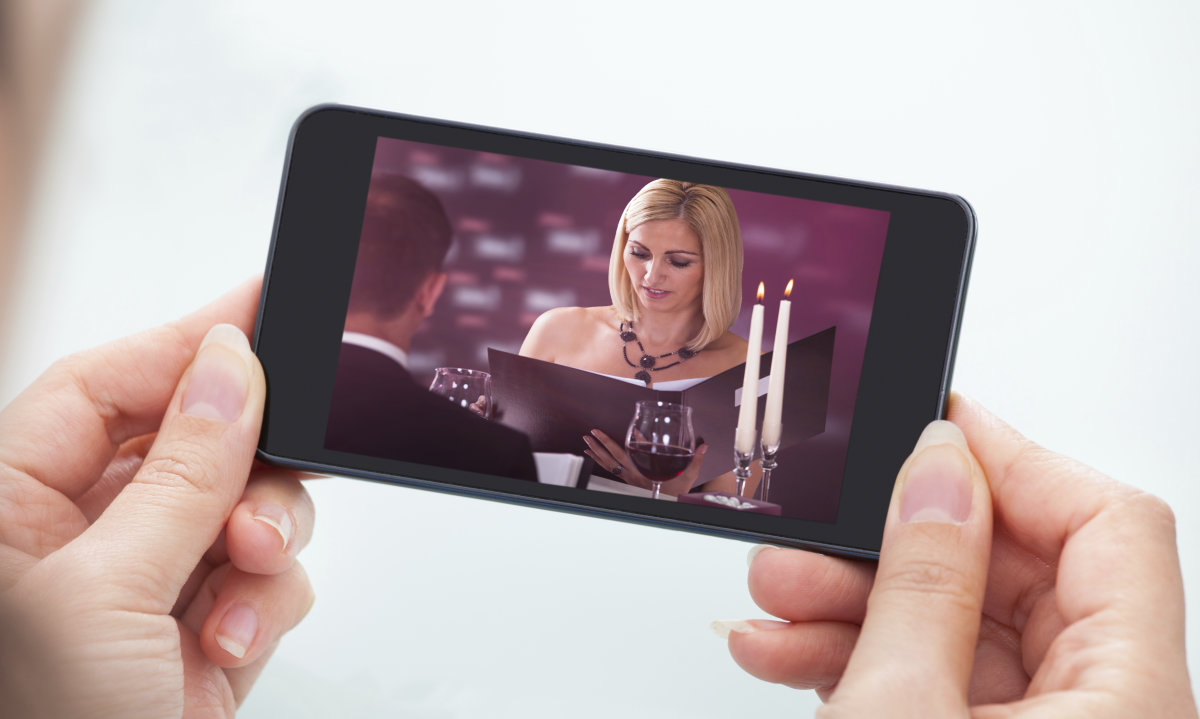smartphone: (246, 101, 979, 564)
